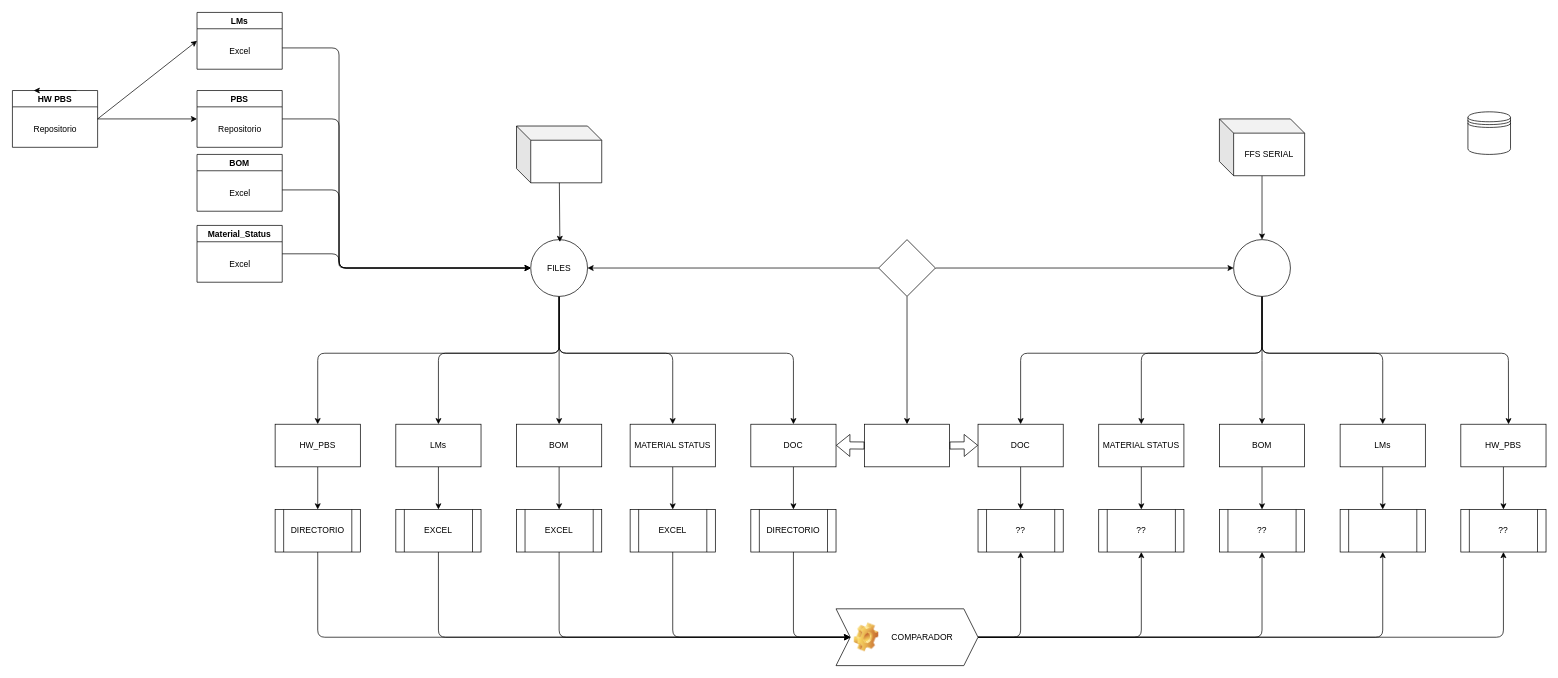
The diagram is 1558 pixels wide and 678 high, and some of its shapes have lost their labels. Each missing label, with the centre of its shape:
FFS WOI: (559,154)
SAP: (1261,267)
SECUENCIA DE MONTAJE: (907,445)
USER UI: (906,267)
ZP_BOM2: (1382,530)
